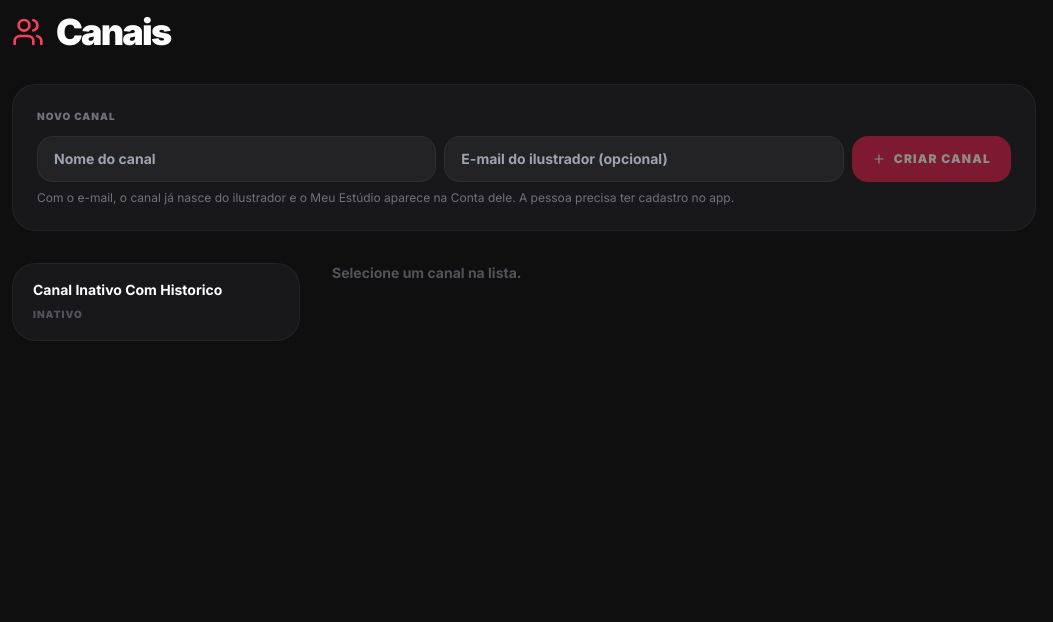
it: CanaisPanel — Mensagens de canal inativo têm porta de entrada (Fase 5 Bloco 2, Task 8) › canal inativo aparece na lista e a aba Mensagens carrega a thread arquivada normalmente (sem caixa de nova mensagem)
What coordinates should you click on to do the following:
click the text "Canal Inativo Com Historico"
I would click on:
 (128, 290)
Its box is [33,281,222,298].
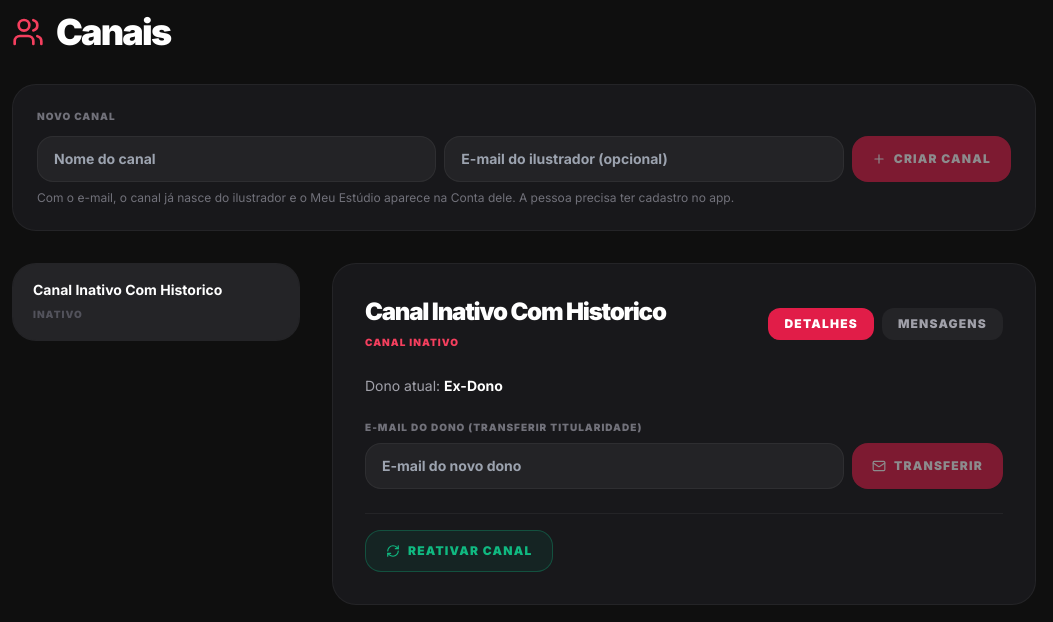
What coordinates should you click on to do the following:
click the button "Mensagens"
I would click on:
 (942, 324)
Its box is [882,308,1003,340].
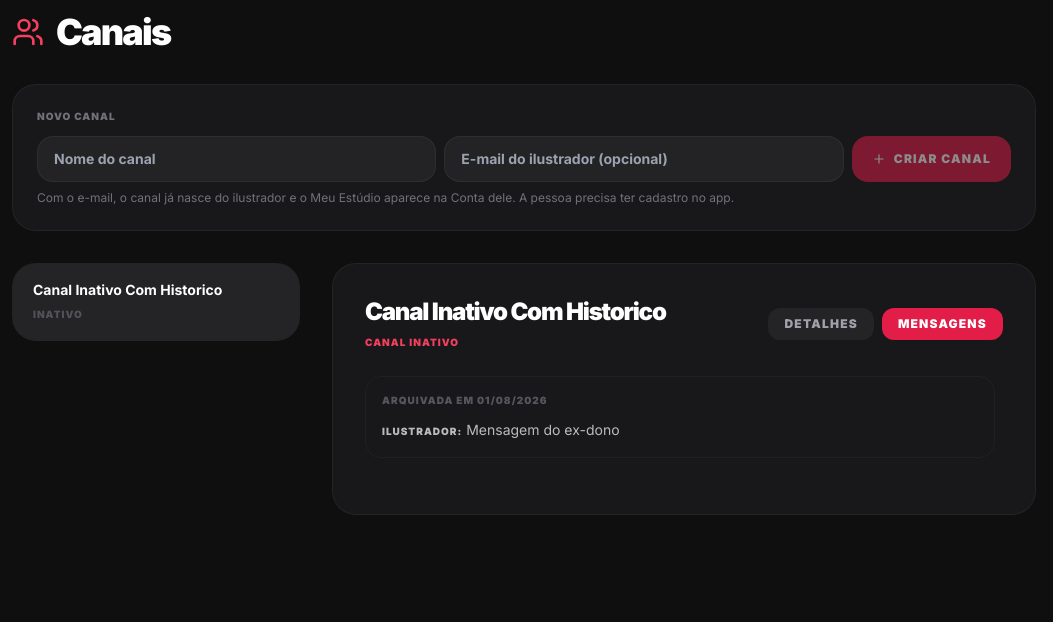
Expected: the text "Mensagem do ex-dono" is shown, [466,421,620,438]
